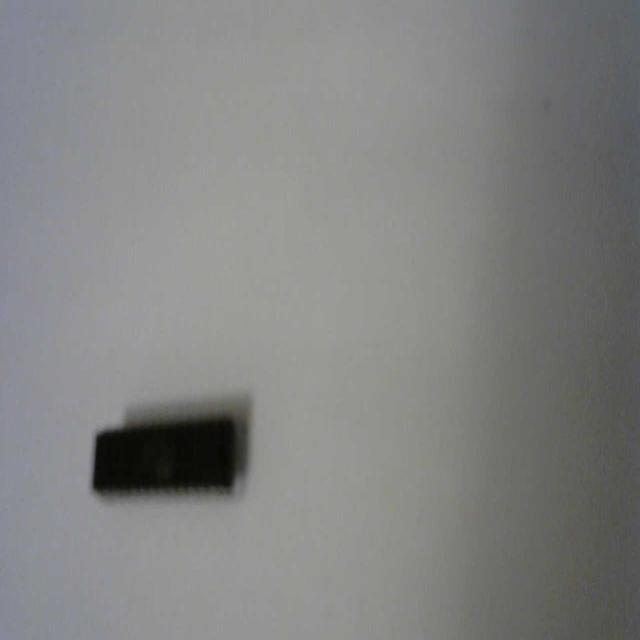atmega: (88, 396, 250, 505)
